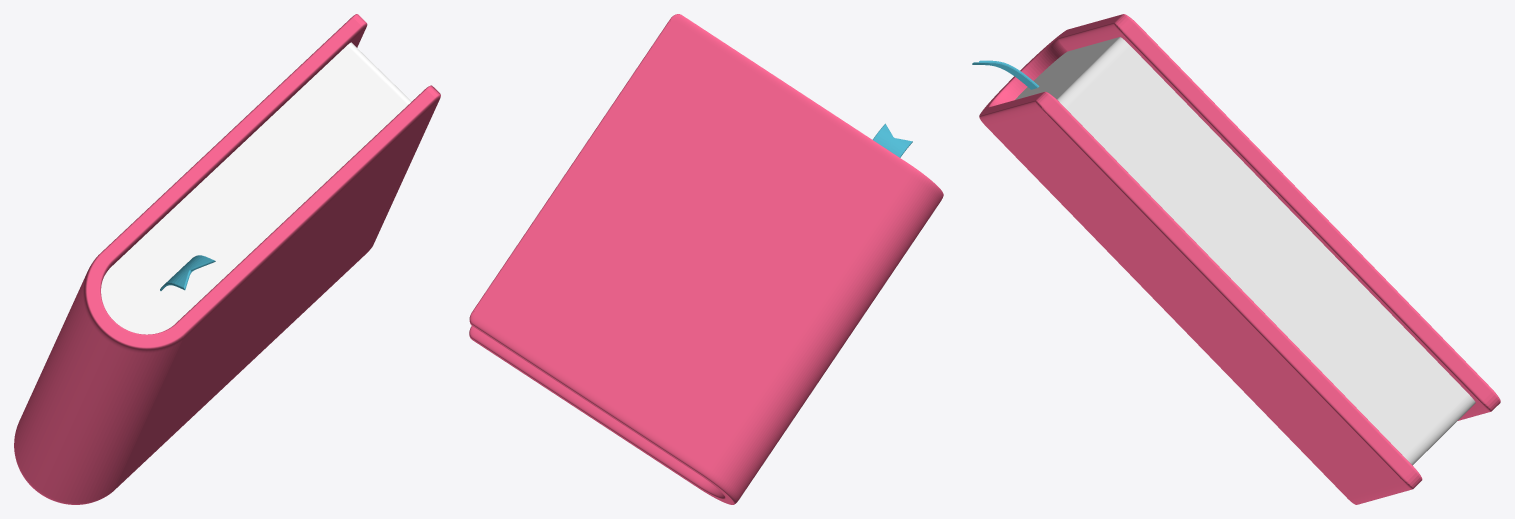
The model's file is book.gltf.
3 renders of one model, left to right at view 1: azimuth 30°, elevation 25°; view 2: azimuth 150°, elevation 25°; view 3: azimuth 270°, elevation 25°, orthographic. The views are drawn at different scales.
Visible parts, largest first — view 1: Cylinder, Cylinder.001, Plane; view 2: Cylinder, Plane; view 3: Cylinder, Cylinder.001.
Boxes of the visible parts, <box> form: Cylinder: <box>14,14,440,504</box>; Cylinder.001: <box>101,42,411,334</box>; Plane: <box>160,255,215,290</box>; Cylinder: <box>469,14,943,504</box>; Plane: <box>872,123,912,157</box>; Cylinder: <box>979,14,1500,504</box>; Cylinder.001: <box>1015,37,1475,465</box>.
Size of the model in its own units: 2.47 by 2.75 by 2.31.
